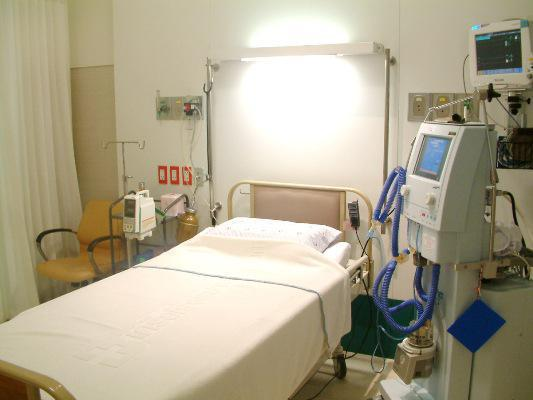Cama: (7, 224, 349, 392)
